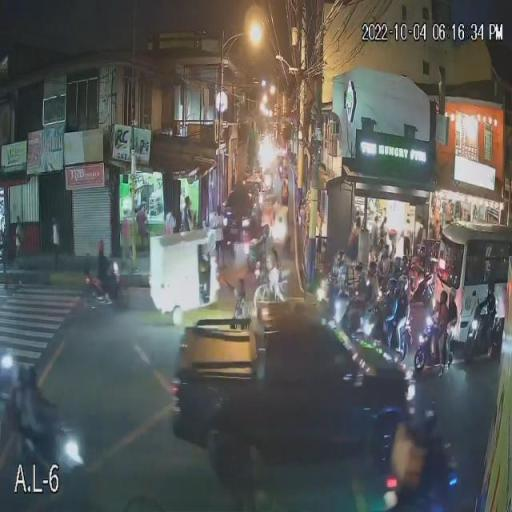helmet: (386, 275, 396, 286), (97, 238, 106, 248), (406, 258, 415, 268), (364, 266, 374, 275)
motorcycle: (0, 352, 84, 481), (381, 435, 465, 511), (413, 310, 454, 376), (379, 292, 413, 365), (344, 286, 384, 344), (82, 255, 126, 307), (320, 280, 355, 334)
rider: (0, 364, 54, 451), (392, 400, 438, 491), (382, 277, 414, 354), (432, 290, 458, 366), (338, 264, 364, 328), (359, 274, 385, 333), (255, 247, 283, 299), (96, 239, 119, 297)
